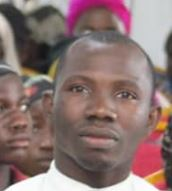without_facemask: (64, 104, 135, 171)
